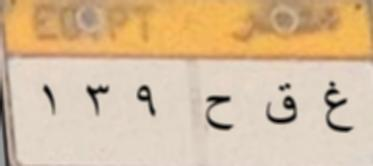1: (35, 82, 68, 120)
3: (79, 78, 115, 118)
7aa: (203, 84, 239, 137)
9: (134, 79, 162, 122)
ghayn: (318, 80, 357, 136)
qaaf: (260, 77, 302, 132)
